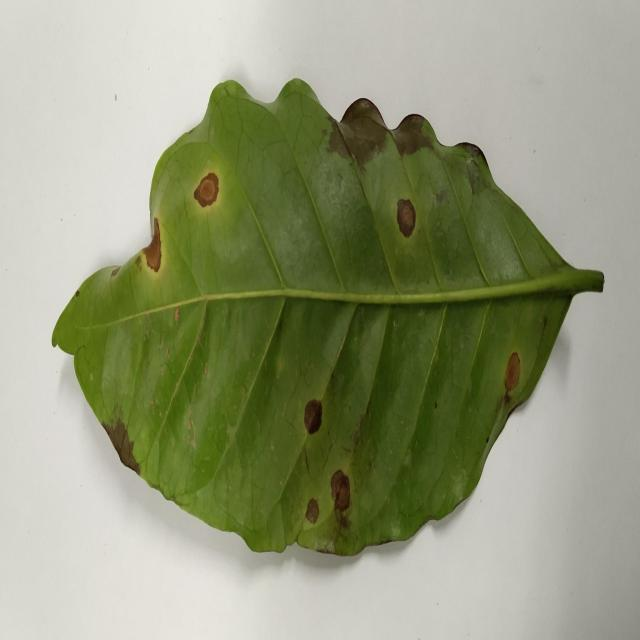Enfermedad-Mancha-de-hierro: (51, 79, 605, 560)
